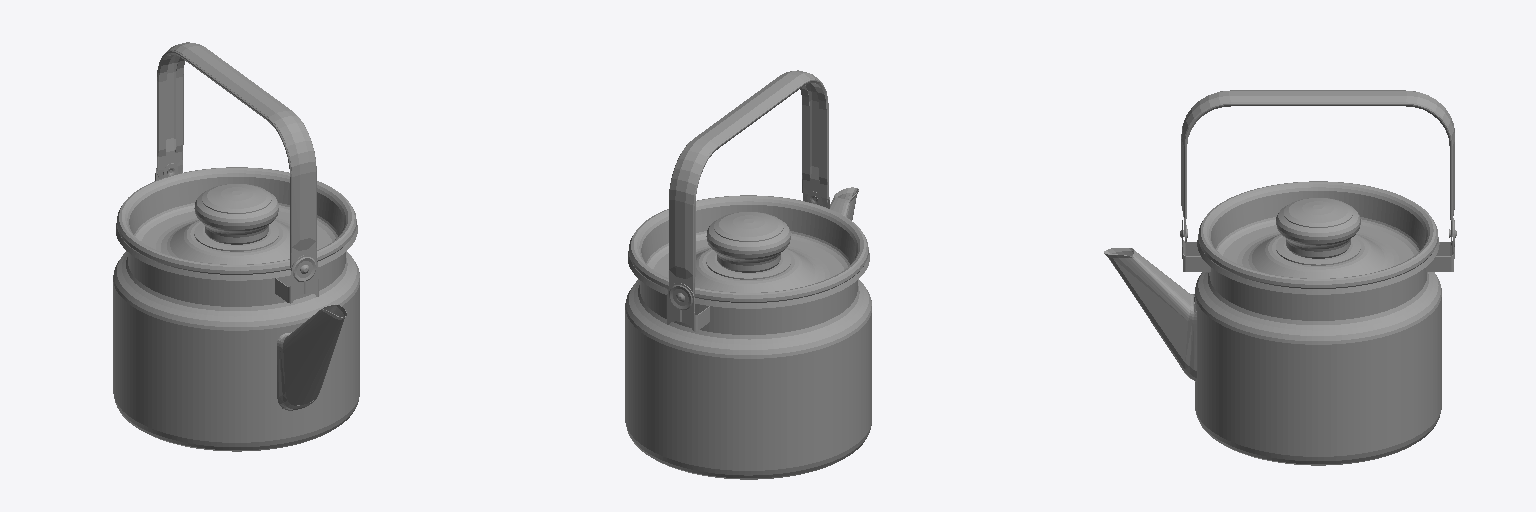
File: Chaynik.obj
3 renders of one model, left to right at view 1: azimuth 30°, elevation 25°; view 2: azimuth 150°, elevation 25°; view 3: azimuth 270°, elevation 25°, orthographic.
Parts seen in each view (by area): view 1: Chaynik, Chaynik-Krishka, Chaynik-Ruchka; view 2: Chaynik, Chaynik-Krishka, Chaynik-Ruchka; view 3: Chaynik, Chaynik-Krishka, Chaynik-Ruchka.
Part boxes in pixels (left/top/right/bottom): Chaynik: left=113, top=168, right=359, bottom=451; Chaynik-Krishka: left=117, top=167, right=356, bottom=274; Chaynik-Ruchka: left=157, top=42, right=316, bottom=273; Chaynik: left=625, top=187, right=871, bottom=479; Chaynik-Krishka: left=629, top=195, right=868, bottom=302; Chaynik-Ruchka: left=669, top=70, right=828, bottom=301; Chaynik: left=1104, top=218, right=1454, bottom=465; Chaynik-Krishka: left=1198, top=181, right=1437, bottom=288; Chaynik-Ruchka: left=1180, top=90, right=1456, bottom=246.
Size of the model in its own units: 0.16 by 0.2322 by 0.2286.